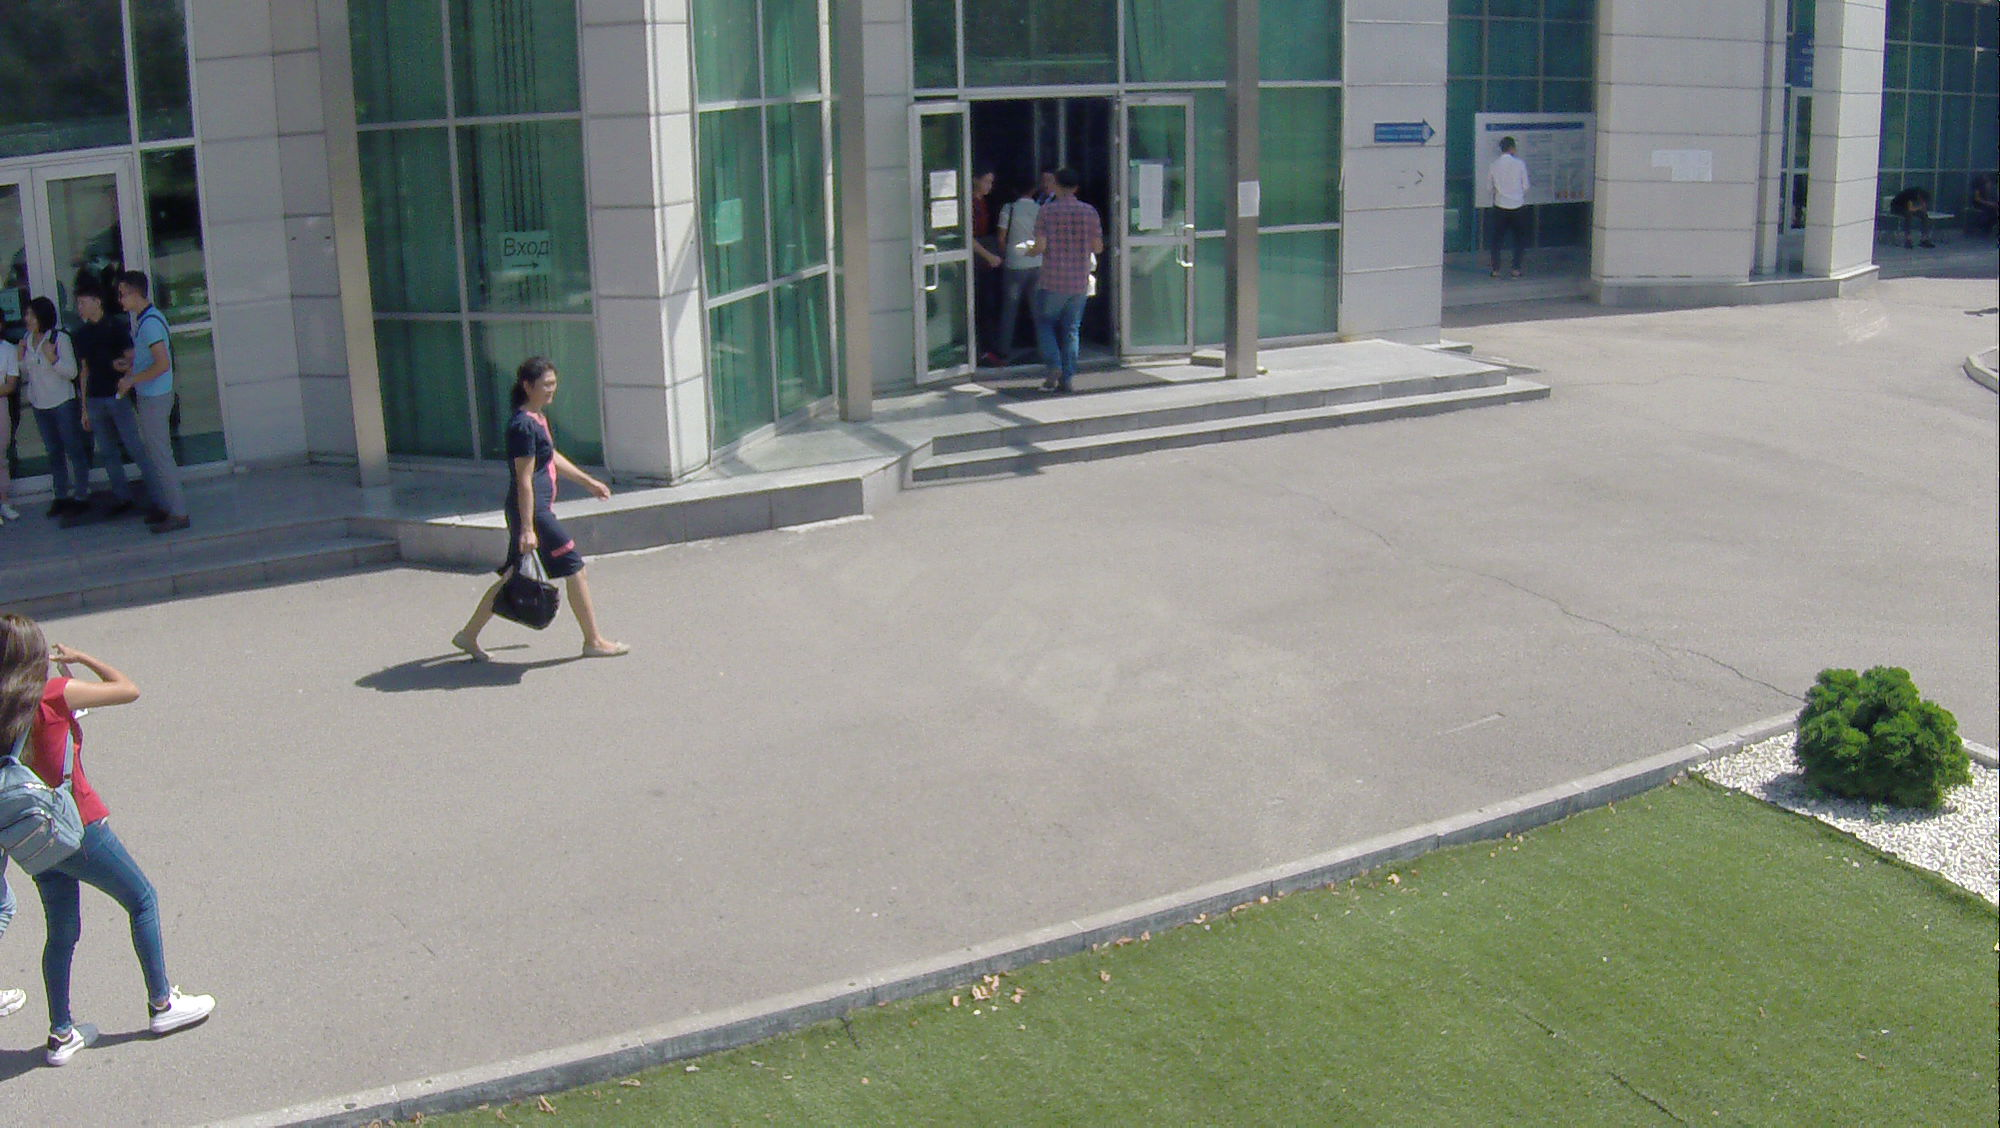person: (1, 603, 222, 1074), (430, 345, 637, 674), (111, 263, 193, 541), (74, 292, 161, 514), (17, 296, 99, 517), (1480, 126, 1535, 283)
